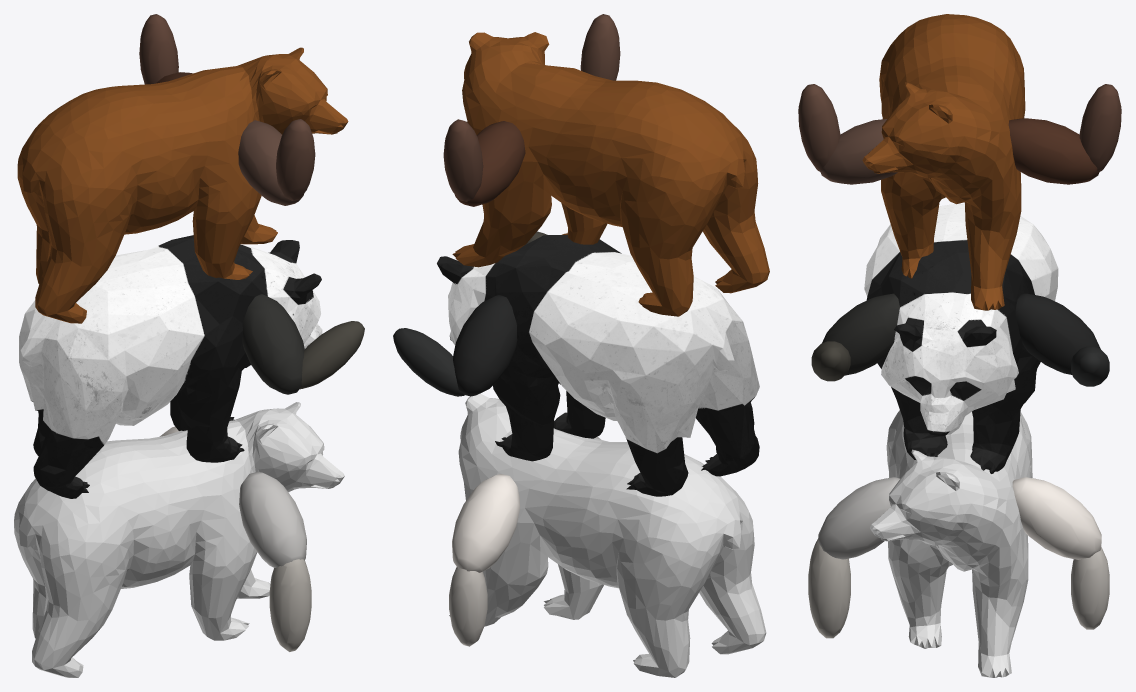
The model's file is bearbear2.glb.
3 views of the same model, side by side, from view 1: azimuth 30°, elevation 25°; view 2: azimuth 150°, elevation 25°; view 3: azimuth 270°, elevation 25° (orthographic). The views are drawn at different scales.
Visible parts, largest first — view 1: brown_bear1, brown_bear002, panda1, pbRUArm.001, pRUArm.001, pbRFArm.001, bbRUArm.001, pRFArm.001, bbRFArm.001, bbLFArm.001; view 2: brown_bear1, panda1, brown_bear002, pbLUArm.001, pLUArm.001, bbLUArm.001, pLFArm.001, bbLFArm.001, pbLFArm.001, bbRFArm.001; view 3: brown_bear1, panda1, brown_bear002, pbLUArm.001, bbLUArm.001, pLUArm.001, pbRUArm.001, pRUArm.001, pbRFArm.001, bbRUArm.001, bbLFArm.001, bbRFArm.001 (+3 smaller).
Boxes of the visible parts, x1,y1,x2,y2 form: brown_bear1: (17, 47, 348, 323); brown_bear002: (14, 402, 344, 677); panda1: (19, 235, 322, 498); pbRUArm.001: (239, 472, 306, 567); pRUArm.001: (242, 294, 304, 394); pbRFArm.001: (269, 559, 311, 651); bbRUArm.001: (238, 120, 304, 205); pRFArm.001: (300, 321, 364, 389); bbRFArm.001: (276, 119, 315, 200); bbLFArm.001: (139, 14, 178, 84); brown_bear1: (452, 32, 769, 316); panda1: (437, 235, 759, 496); brown_bear002: (449, 393, 766, 677); pbLUArm.001: (452, 474, 520, 572); pLUArm.001: (453, 295, 517, 396); bbLUArm.001: (454, 121, 525, 206); pLFArm.001: (393, 328, 464, 396); bbLFArm.001: (443, 119, 483, 201); pbLFArm.001: (449, 567, 487, 646); bbRFArm.001: (580, 14, 620, 80); brown_bear1: (862, 14, 1025, 310); panda1: (864, 204, 1058, 473); brown_bear002: (870, 410, 1032, 677); pbLUArm.001: (1012, 477, 1101, 559); bbLUArm.001: (1008, 118, 1099, 184); pLUArm.001: (1015, 293, 1100, 374); pbRUArm.001: (818, 477, 899, 559); pRUArm.001: (822, 293, 899, 375); pbRFArm.001: (808, 538, 850, 638); bbRUArm.001: (820, 119, 897, 184); bbLFArm.001: (1079, 84, 1121, 171); bbRFArm.001: (798, 84, 840, 171).
Bounding box in the file's own units: 2.48 × 4.39 × 2.23.
18 materials, 1 textured.
